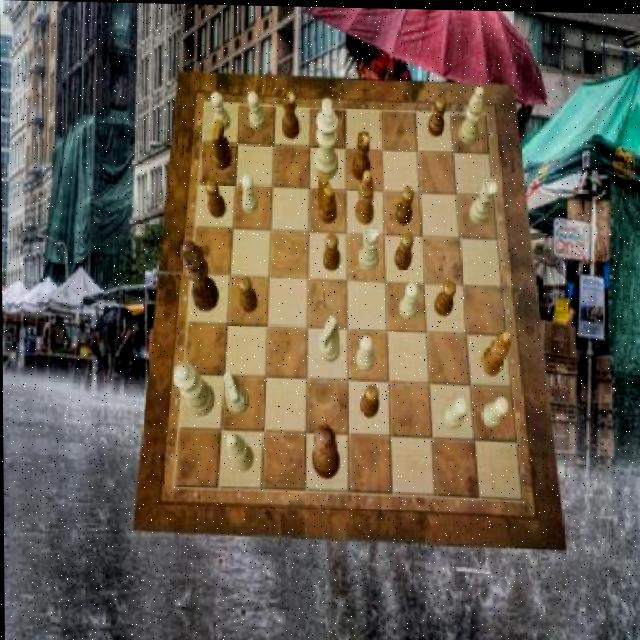bishop: (480, 328, 513, 375), (355, 168, 374, 223)
black-bishop: (180, 240, 218, 312)
black-king: (212, 119, 232, 171), (318, 172, 337, 223)
black-knight: (434, 279, 457, 315), (207, 179, 227, 218), (394, 230, 414, 268), (428, 95, 446, 135), (239, 277, 258, 313), (396, 184, 414, 222), (361, 383, 380, 418), (324, 234, 342, 270)
black-pawn: (312, 422, 339, 477)
black-queen: (352, 128, 371, 179), (282, 88, 300, 137)
black-rook: (459, 85, 485, 144), (227, 432, 254, 471)
white-bishop: (314, 99, 339, 178)
white-king: (224, 372, 249, 415), (319, 315, 340, 361)
white-knight: (482, 395, 510, 428), (444, 395, 469, 428), (212, 91, 232, 132), (399, 281, 419, 319), (248, 90, 266, 131), (354, 334, 374, 370), (241, 173, 258, 213), (318, 96, 335, 135)
white-pawn: (173, 360, 214, 415)
white-queen: (470, 176, 498, 223), (358, 223, 379, 270)
